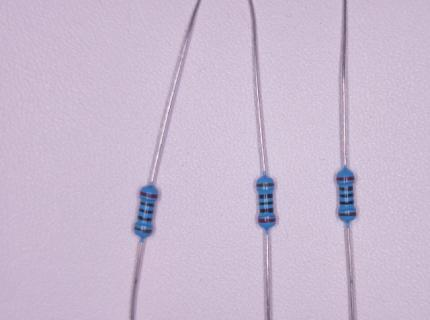Black band: (140, 201, 154, 207), (139, 209, 153, 214), (138, 216, 152, 221), (339, 186, 353, 191), (260, 208, 273, 213), (259, 194, 273, 198), (259, 201, 273, 205), (339, 194, 353, 198), (340, 201, 354, 205)
Brown band: (135, 227, 152, 233), (256, 183, 274, 187), (338, 212, 356, 216)
Red band: (140, 192, 158, 199), (258, 218, 275, 223), (336, 177, 355, 181)
